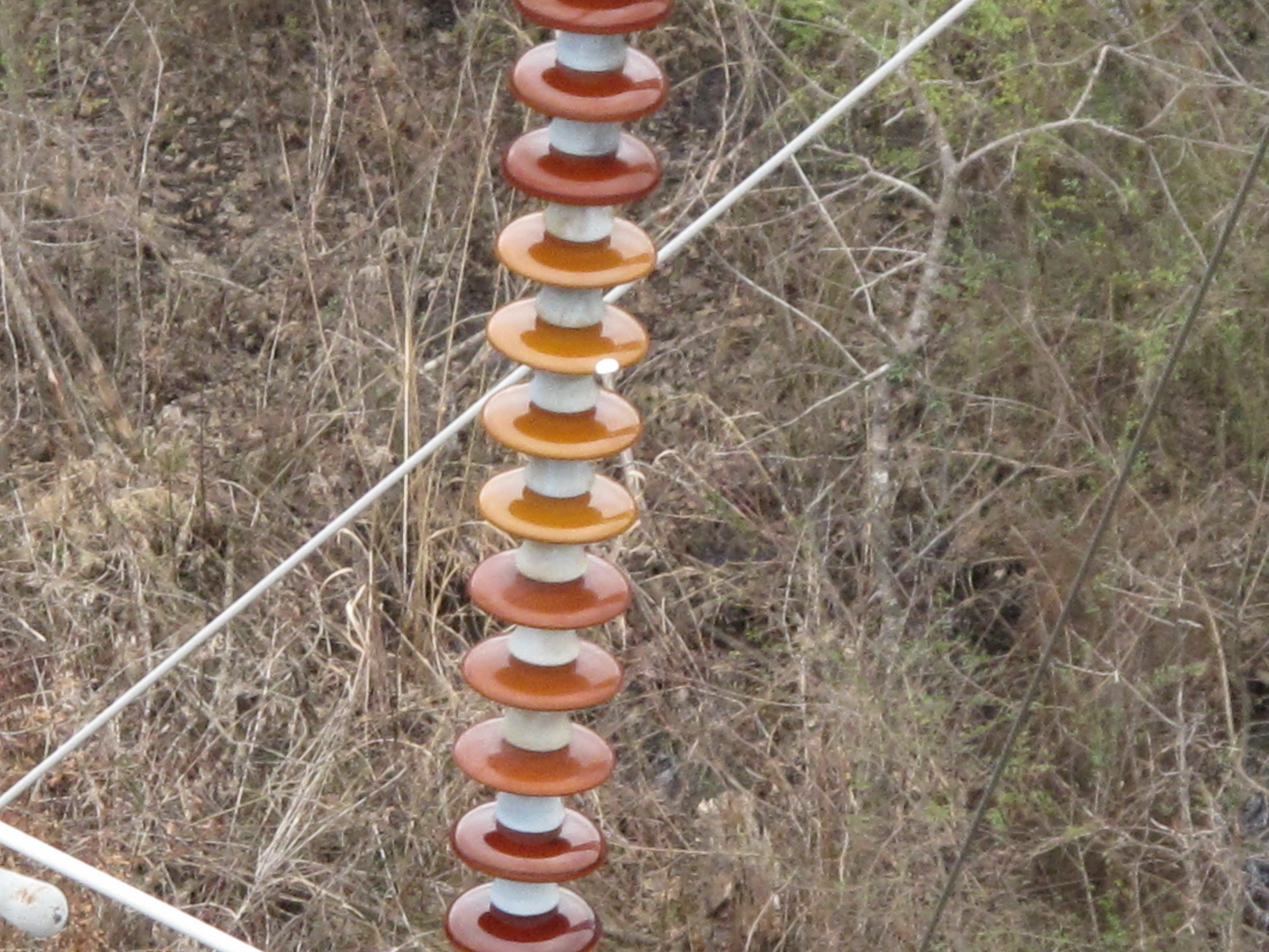damaged: (586, 348, 637, 386)
hammer: (0, 817, 79, 938)
insulator: (453, 0, 676, 952)
